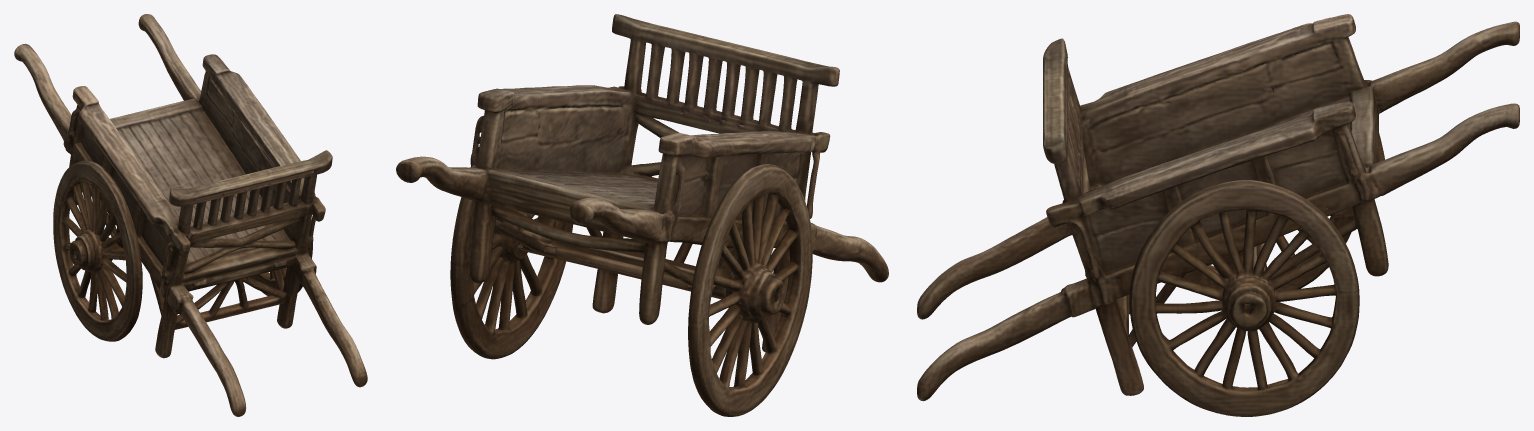
Rendered from handcart.glb.
3 renders of one model, left to right at view 1: azimuth 30°, elevation 25°; view 2: azimuth 150°, elevation 25°; view 3: azimuth 270°, elevation 25°, orthographic. The views are drawn at different scales.
Visible parts, largest first — view 1: world; view 2: world; view 3: world.
Boxes of the visible parts, x1=… form: world: x1=14, y1=14, x2=367, y2=416; world: x1=396, y1=14, x2=888, y2=416; world: x1=917, y1=14, x2=1519, y2=416.
Bounding box in the file's own units: 1.8 × 1.75 × 3.19.
1 material, 1 textured.
